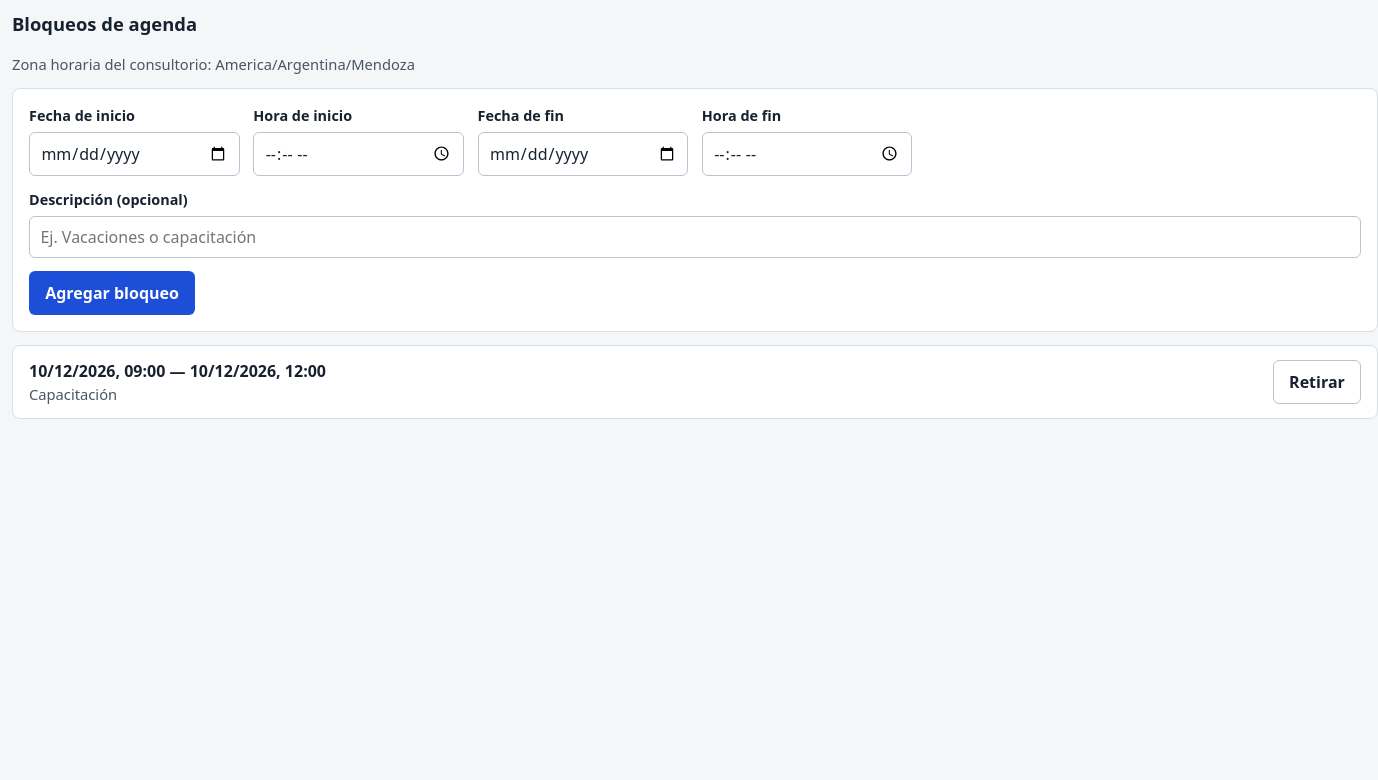
Test: BloqueosSection › lista bloqueos al cargar y permite crear uno nuevo en la zona del consultorio
The width and height of the screenshot is (1378, 780).
Expected: the text "Capacitación" is shown, [29,384,117,404]
Type "2026-12-15" into the date field labelled "Fecha de inicio".
click(134, 154); type("2026-12-15")  # box [29,132,240,176]
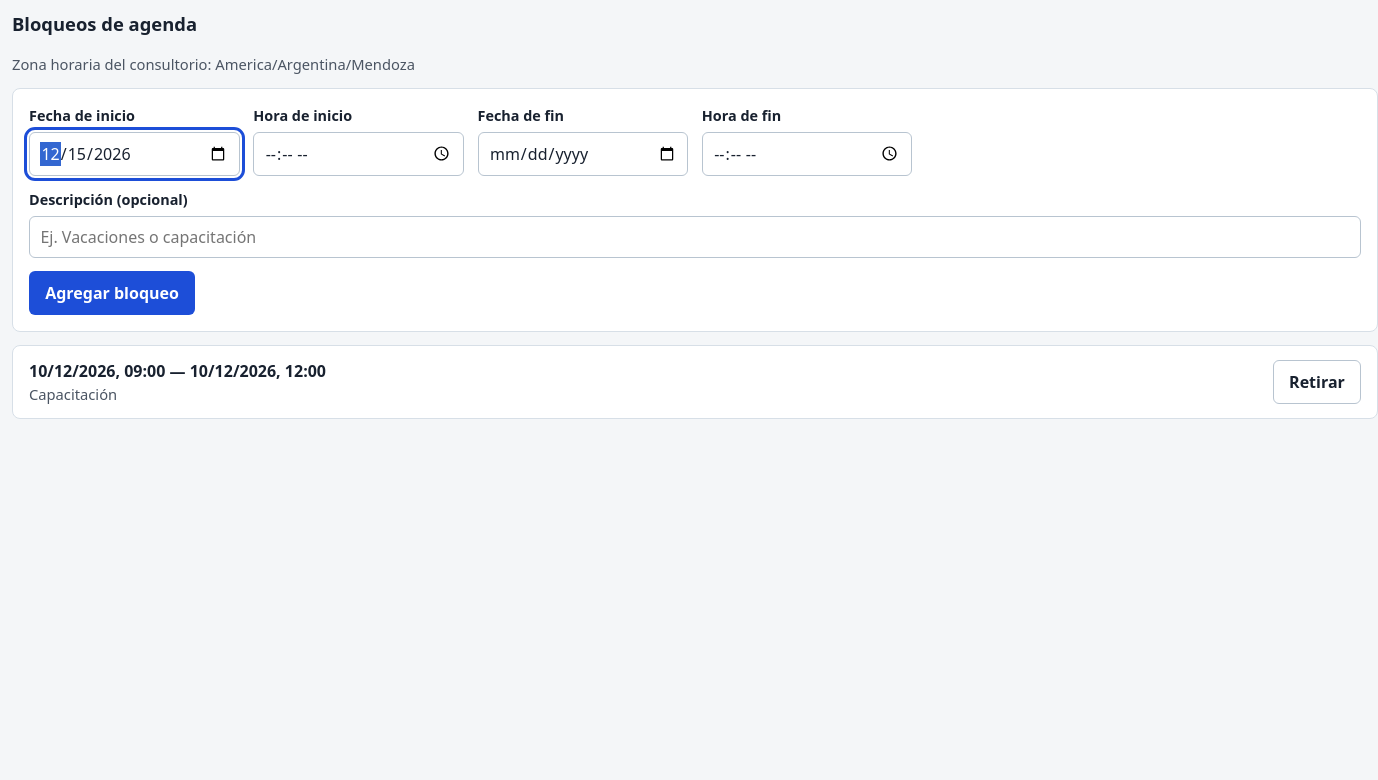
Type "09:00" into the time field labelled "Hora de inicio".
click(359, 154); type("09:00")  # box [253,132,464,176]
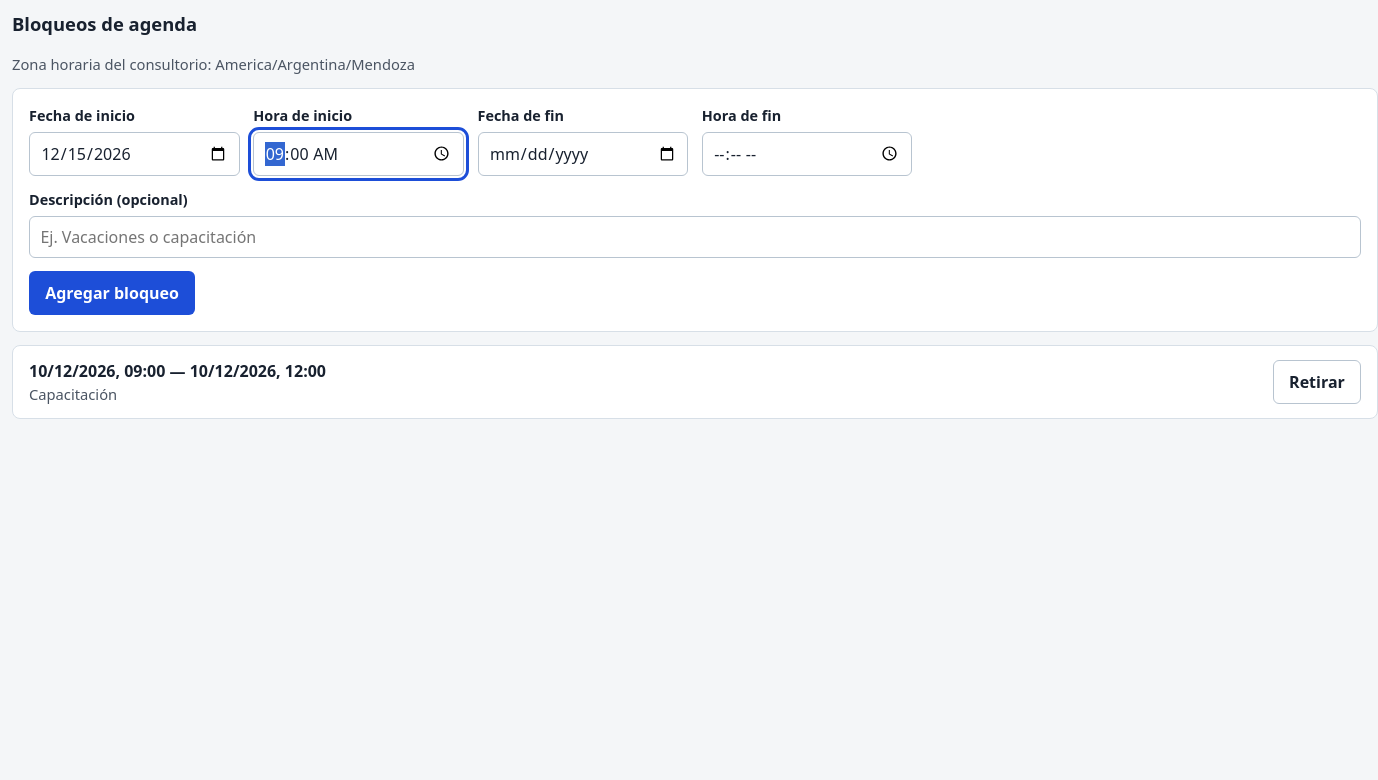
Type "2026-12-15" into the date field labelled "Fecha de fin".
click(583, 154); type("2026-12-15")  # box [478,132,688,176]
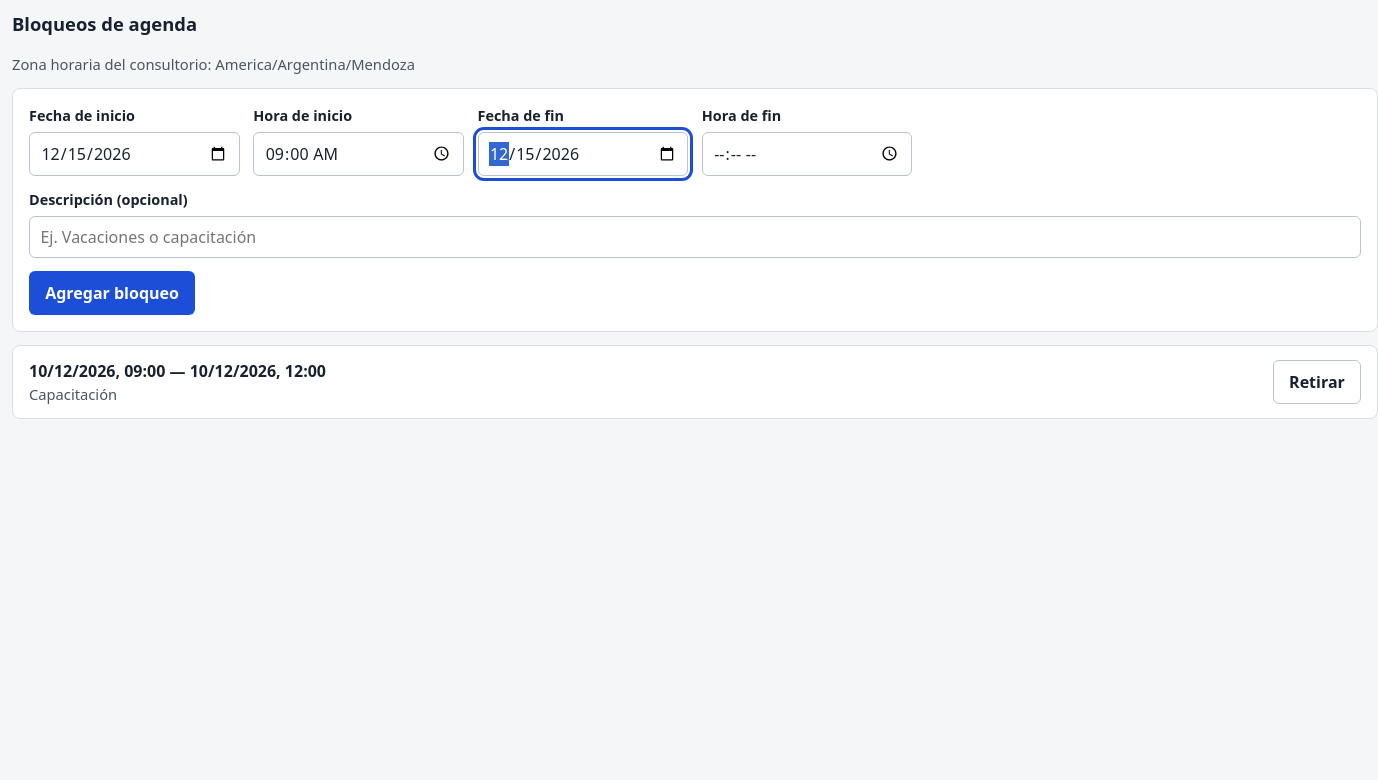
Type "11:00" into the time field labelled "Hora de fin".
click(807, 154); type("11:00")  # box [702,132,912,176]
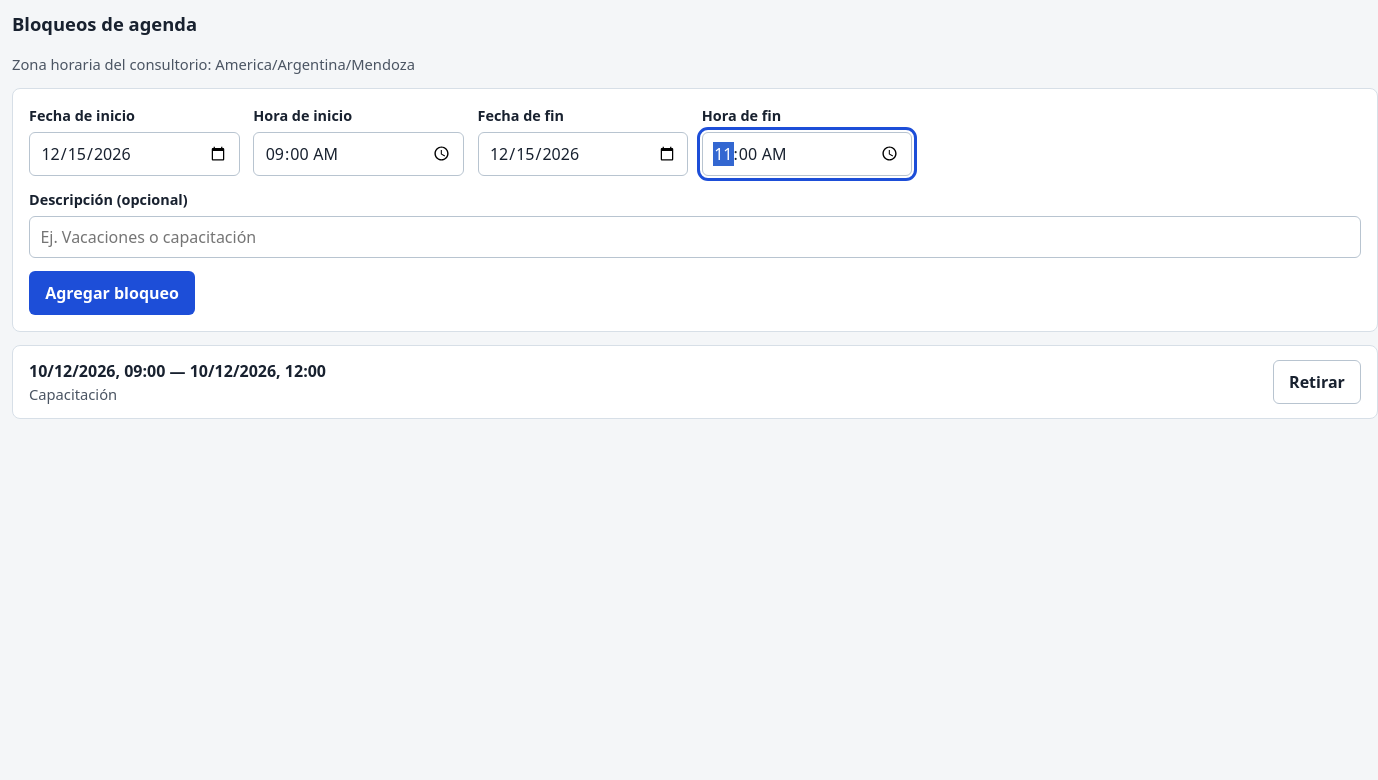
Type "Feriado" into the field labelled "Descripción (opcional)".
click(695, 237); type("Feriado")  # box [29,216,1361,258]
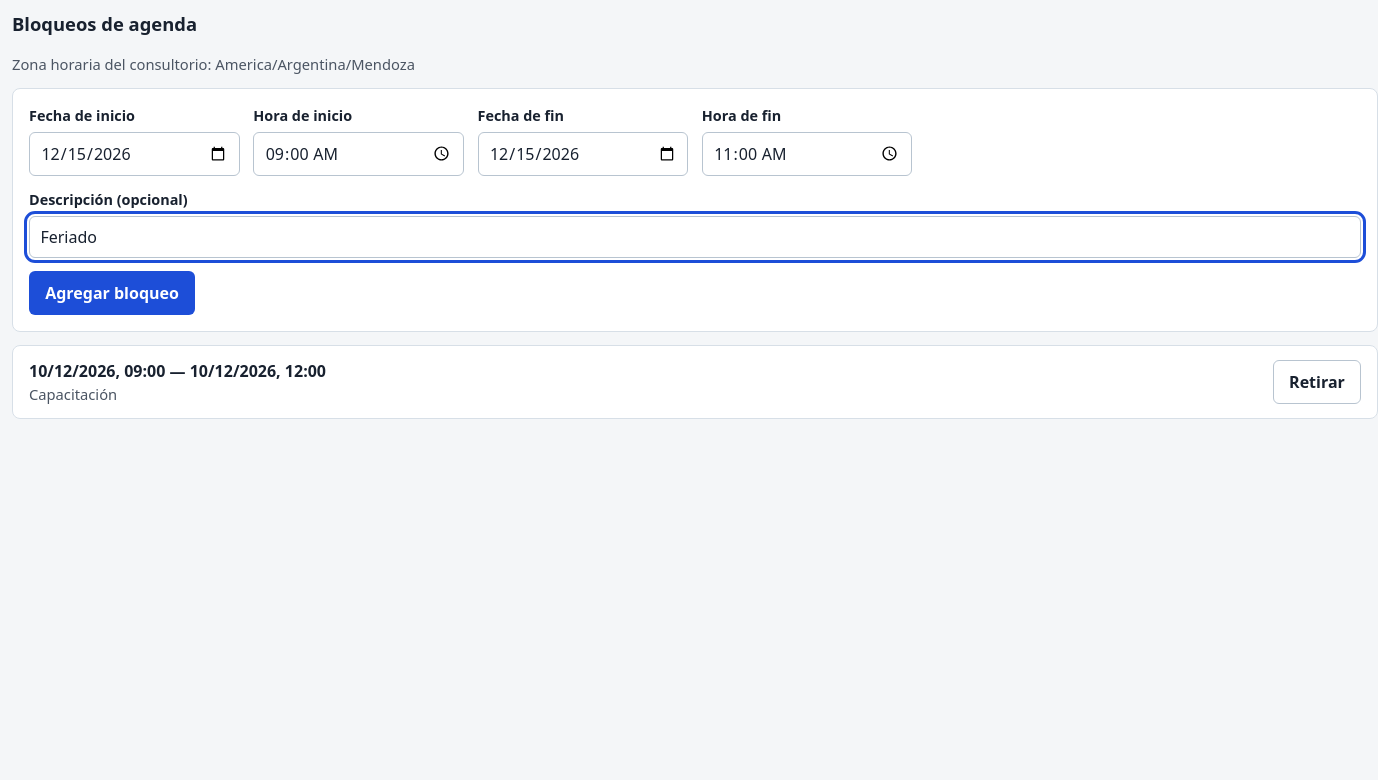
Click the button "Agregar bloqueo".
click(112, 293)  # box [29,271,195,315]
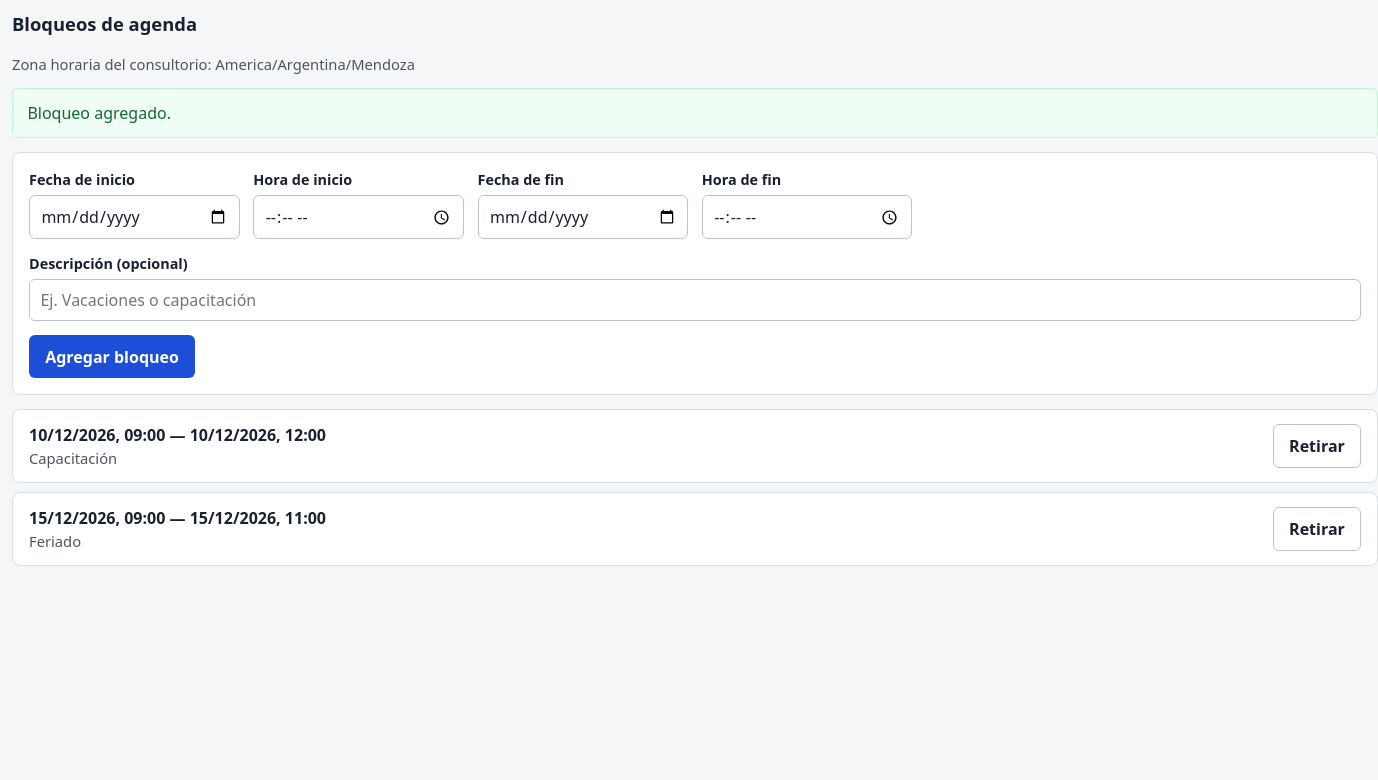
Now the text "Feriado" is shown, box [29,531,81,551]
